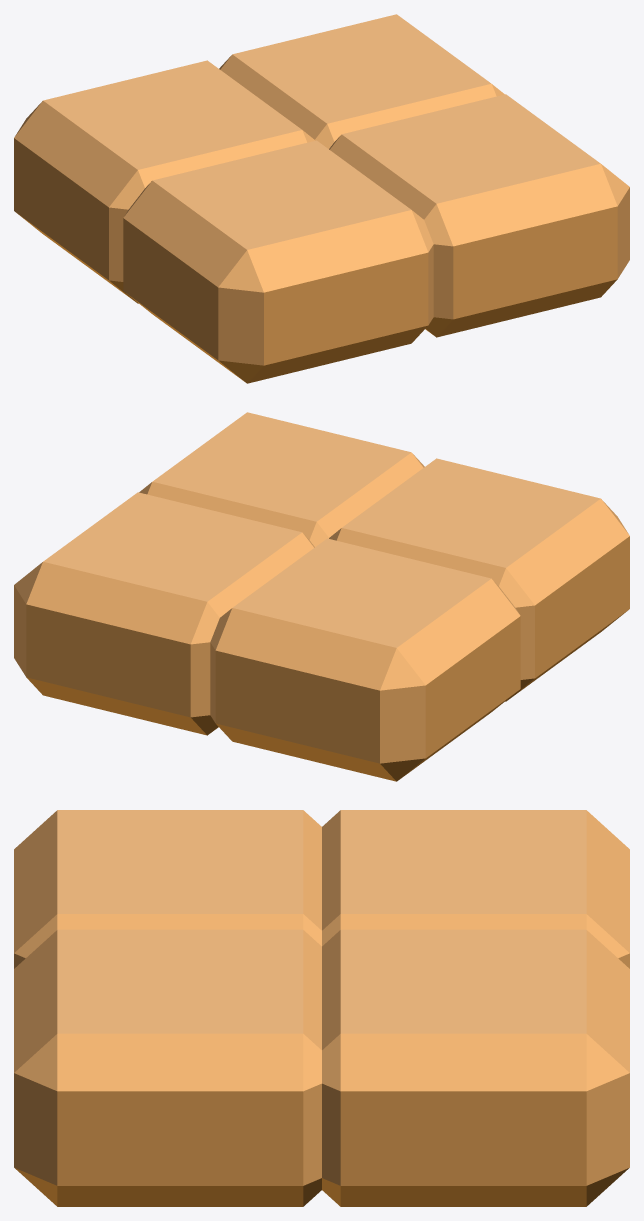
The model's file is m_kub_clay_floorFour.FBX.
3 views of the same model, one above another, from view 1: azimuth 30°, elevation 25°; view 2: azimuth 150°, elevation 25°; view 3: azimuth 270°, elevation 25° (orthographic). The views are drawn at different scales.
Visible parts, largest first — view 1: m_kub_clay_floorFour; view 2: m_kub_clay_floorFour; view 3: m_kub_clay_floorFour.
Part boxes in pixels (x1,y1,x2,y2): m_kub_clay_floorFour: (14,14,629,383); m_kub_clay_floorFour: (14,412,629,781); m_kub_clay_floorFour: (14,810,629,1206).
Bounding box in the file's own units: 2.18 × 0.6751 × 2.18.
